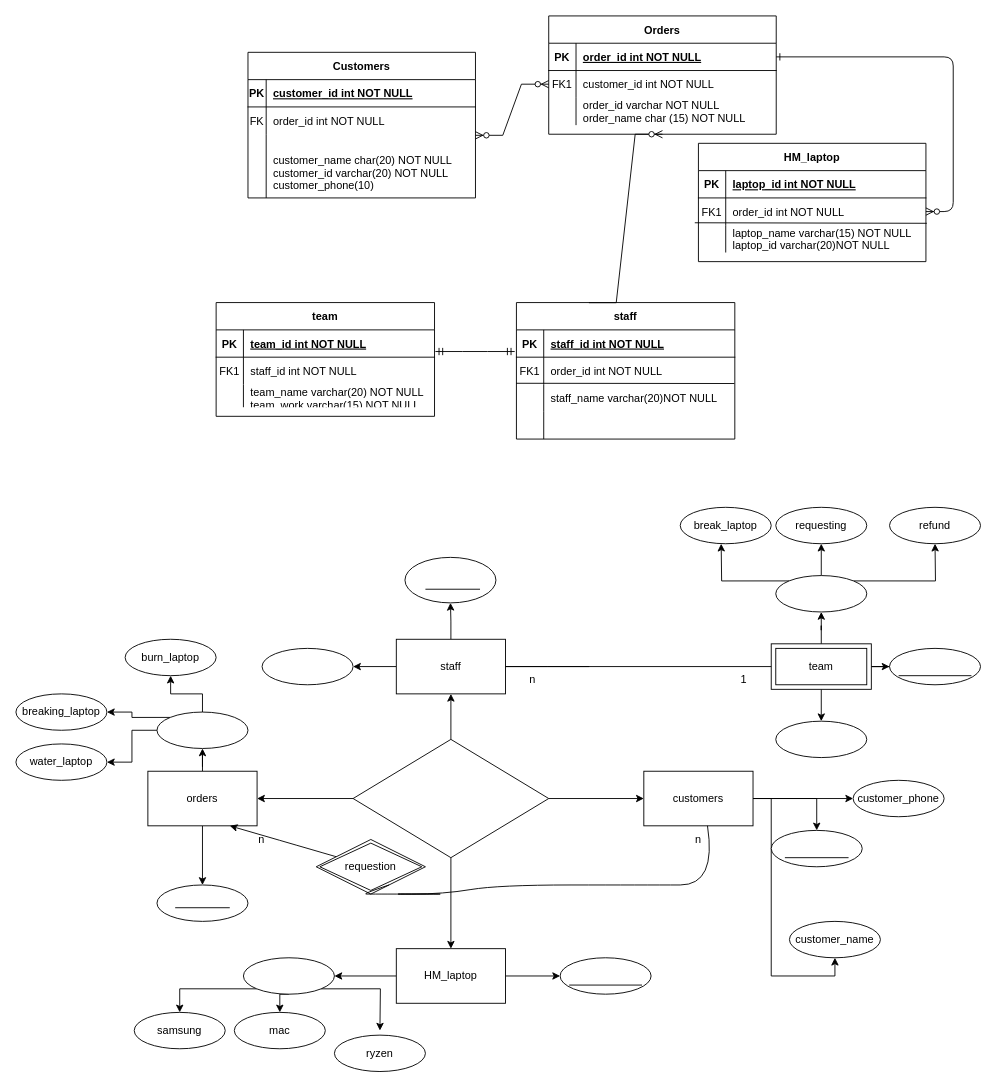
This 996x1087 diagram has some shape labels left out. The box of each missing label's shape, as (x1, y1, x2, y2) in pixels:
company: (352, 738, 549, 858)
customer_id: (770, 829, 862, 867)
laptop_id: (559, 957, 651, 994)
laptop_name: (243, 957, 334, 994)
order_id: (156, 884, 248, 921)
order_name: (156, 711, 248, 748)
staff_id: (404, 556, 496, 603)
staff_name: (261, 647, 353, 685)
team_id: (889, 647, 981, 685)
team_name: (775, 575, 867, 612)
team_work: (775, 720, 867, 758)
